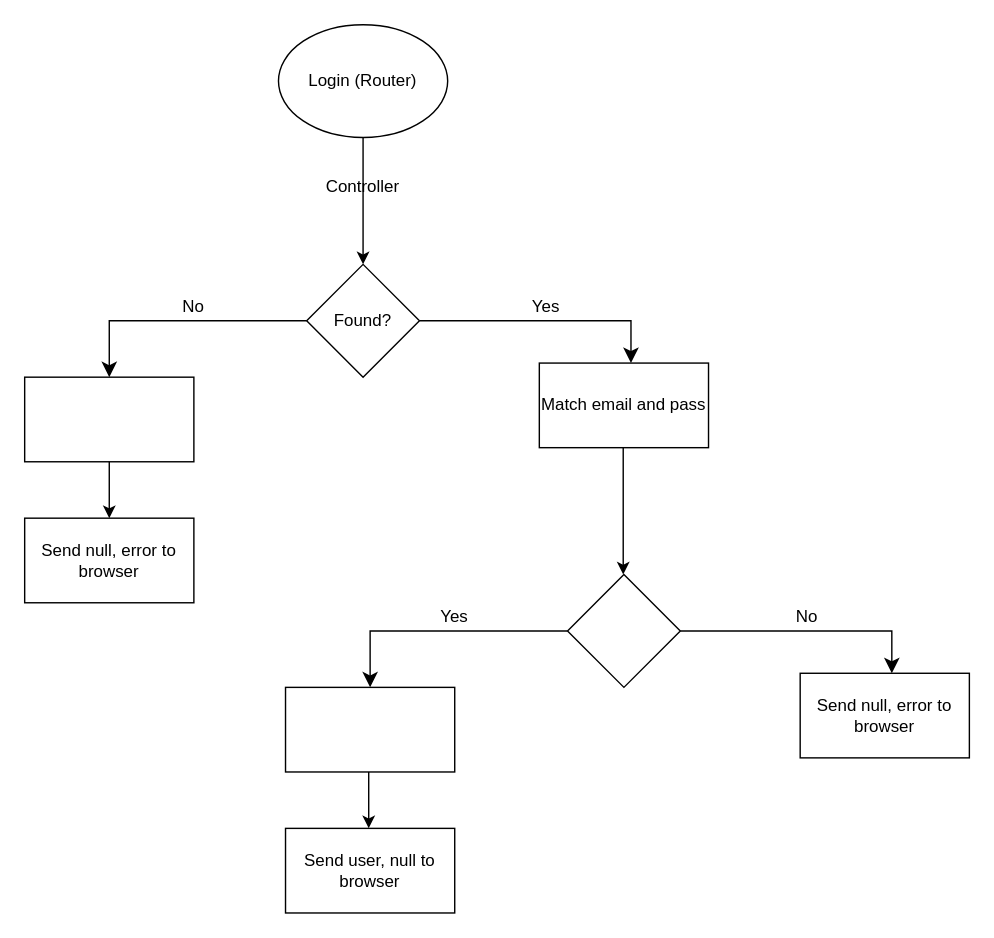
Image size: 994x938. Some labels were removed from this diagram. The centre of each missing label's shape, as x and y in pixels:
"Matched?" goes at point 623,630.
"Send null, error to router" goes at point 108,419.
"Send user, null to router" goes at point 369,729.
